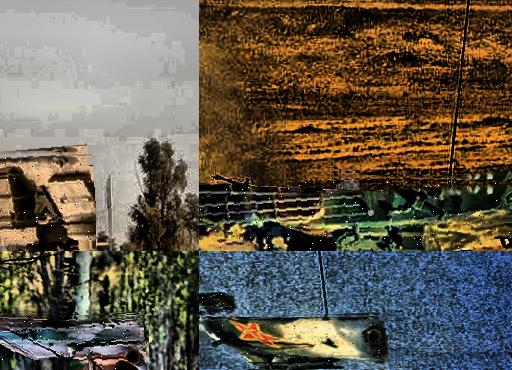tanks: (200, 182, 512, 252), (201, 316, 388, 370), (1, 153, 97, 252), (1, 317, 147, 370), (200, 296, 234, 314)
